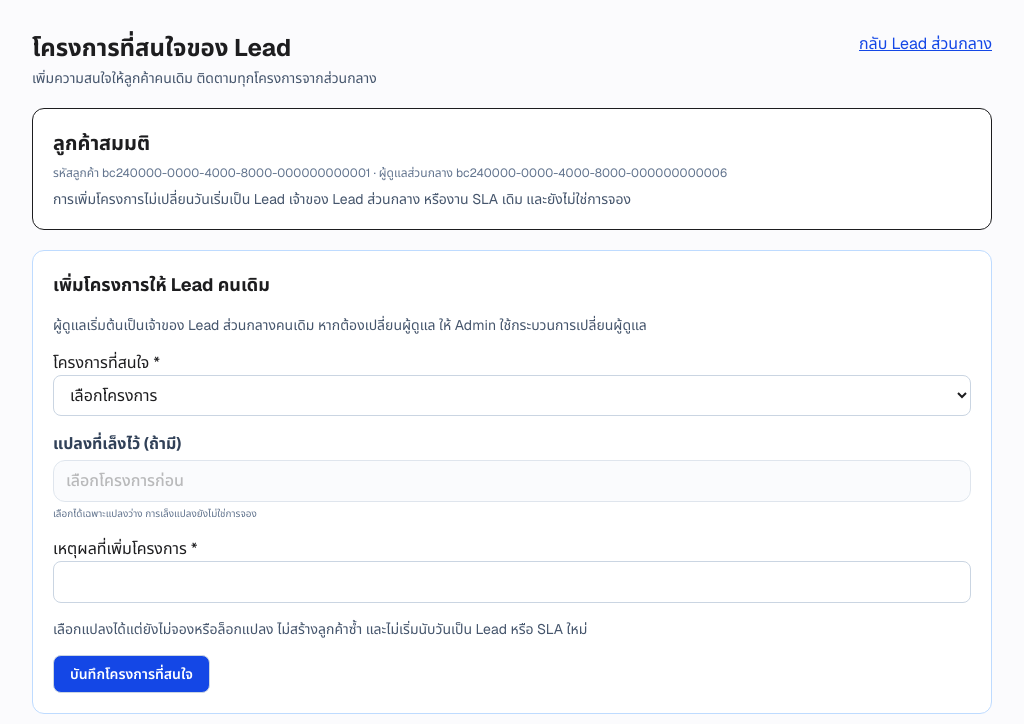
existing Lead project interests workspace › clears only a definitive first rejection so the user can correct an unsaved form
Select "โครงการสมมติ" in the dropdown labelled "โครงการที่สนใจ *" at [512, 396], box [53,375,971,416]
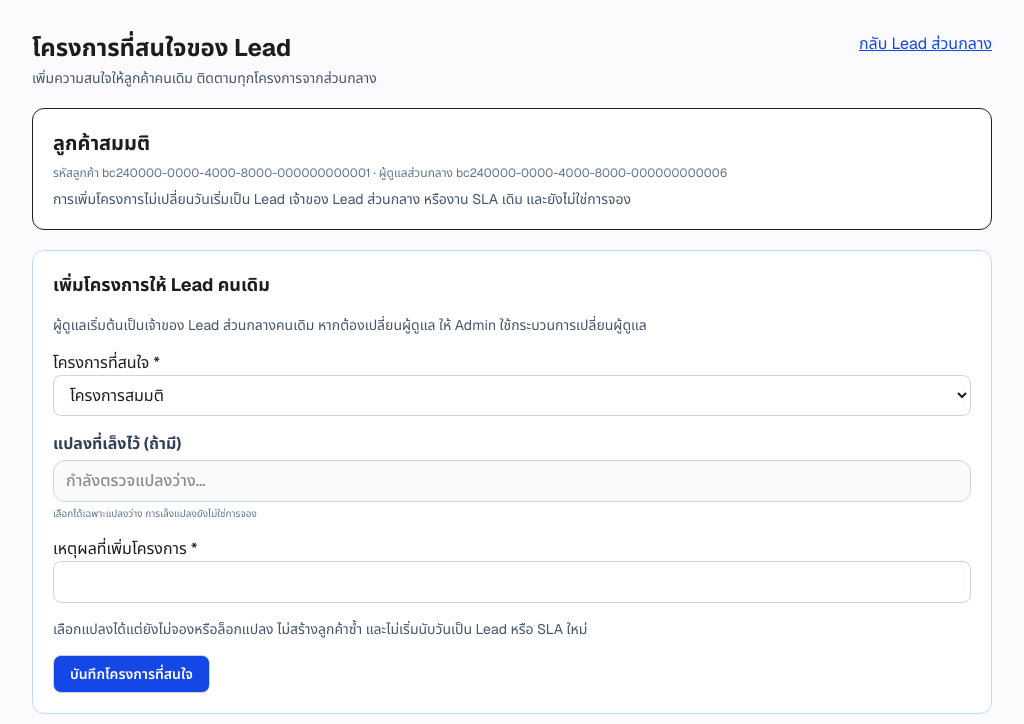
Type "ลูกค้าขอเข้าชมโครงการ" into the field labelled "เหตุผลที่เพิ่มโครงการ *" at [512, 582], box [53,561,971,603]
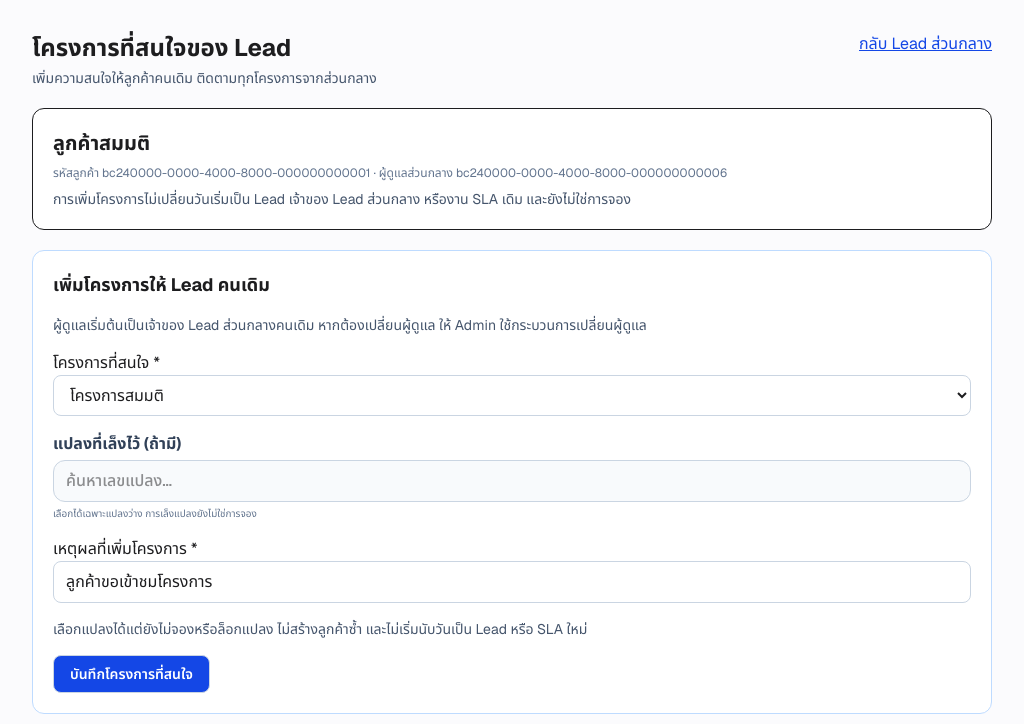
Submit the form named "เพิ่มโครงการที่สนใจ"
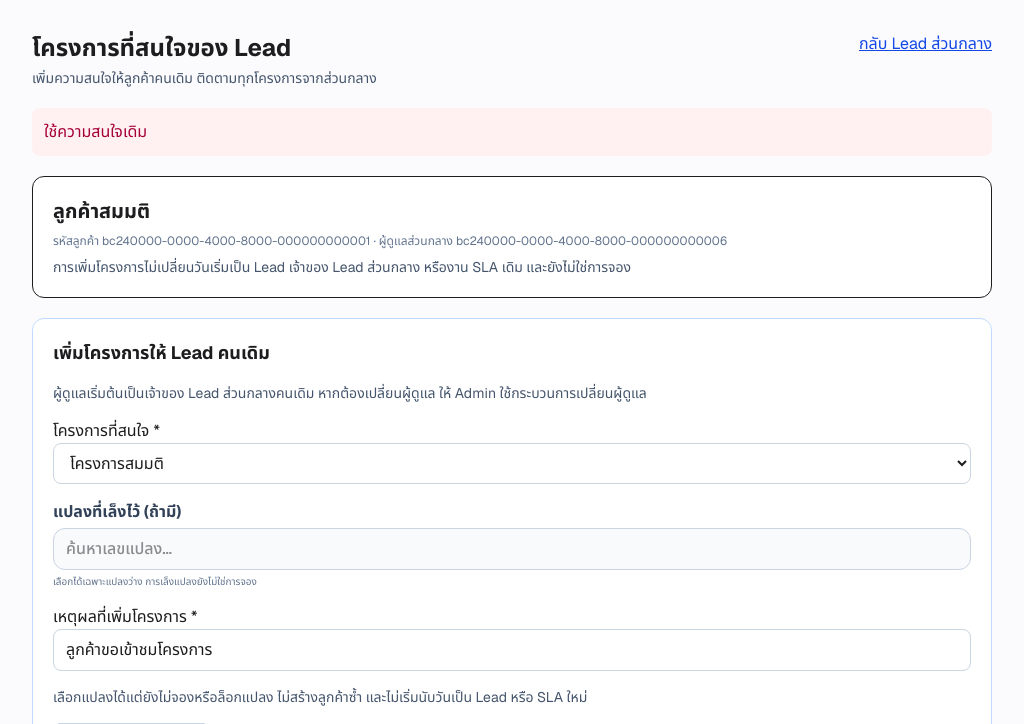
Expected: the field labelled "เหตุผลที่เพิ่มโครงการ *" is enabled, [53,629,971,671]
Expected: the message reads "ใช้ความสนใจเดิม", [44,121,147,142]
